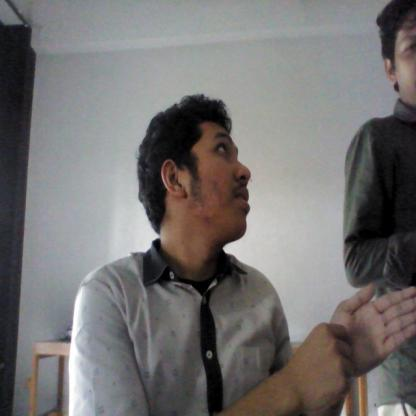Nama: (296, 276, 416, 393)
